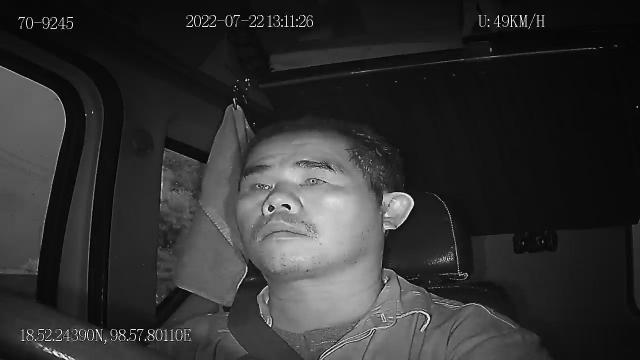SafeDriving: (294, 165, 337, 192), (241, 172, 278, 197)
Seatbelt: (225, 288, 307, 360)
